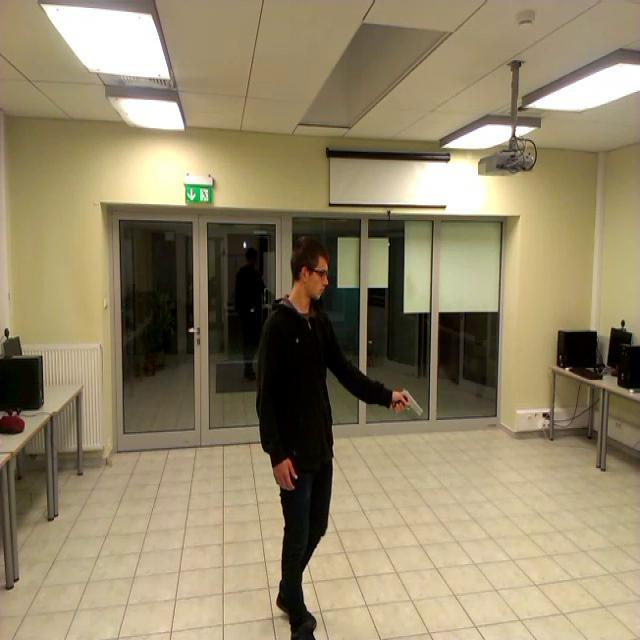Gun: (394, 388, 424, 416)
